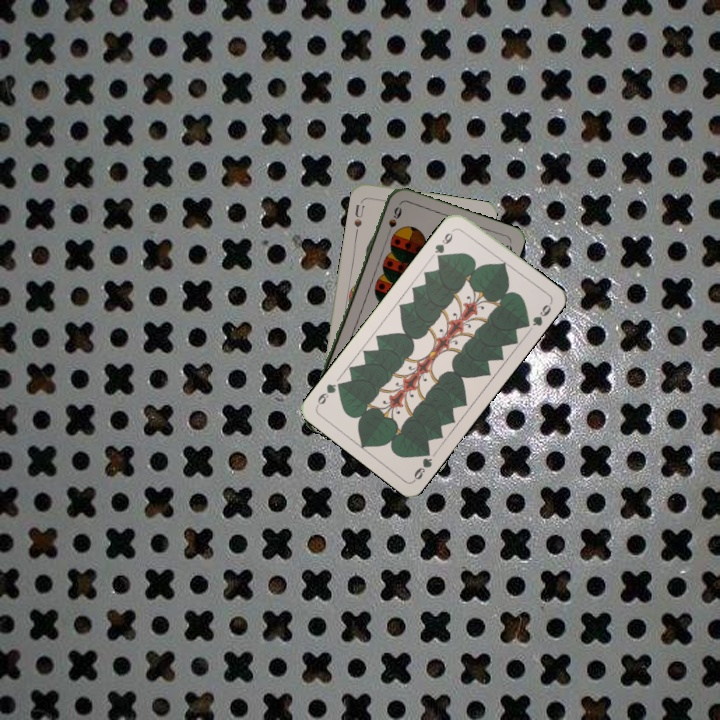G9: (430, 225, 458, 263), (410, 444, 435, 484)
S9: (382, 203, 404, 240)
SU: (350, 200, 367, 230)
